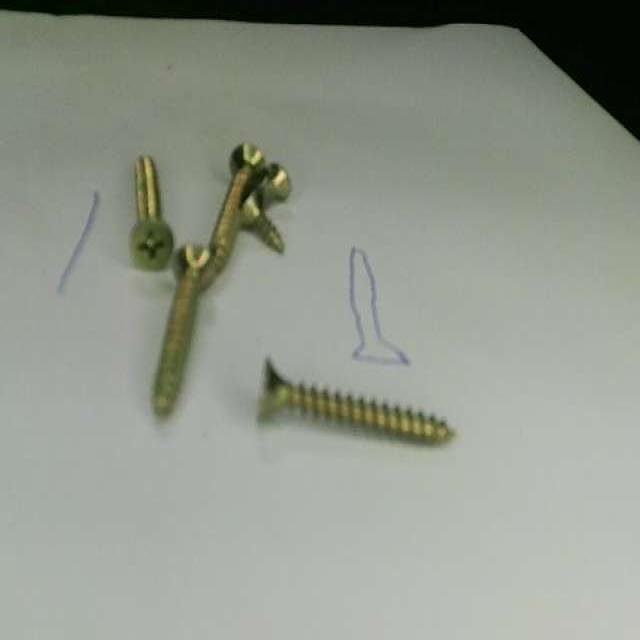Parafuso: (256, 356, 451, 440), (151, 241, 213, 412), (213, 140, 265, 268), (132, 155, 175, 268), (241, 189, 283, 250), (259, 164, 291, 208)
